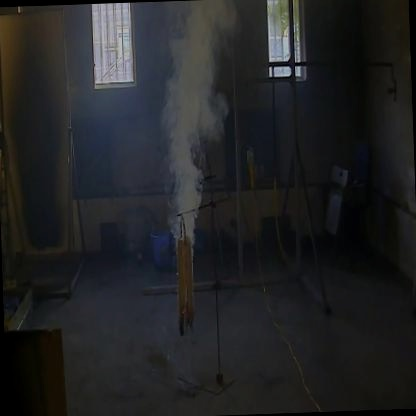smoke: (134, 4, 245, 310)
